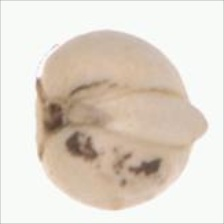L5: (31, 74, 113, 169), (97, 87, 212, 149)
L6: (30, 30, 213, 214)
